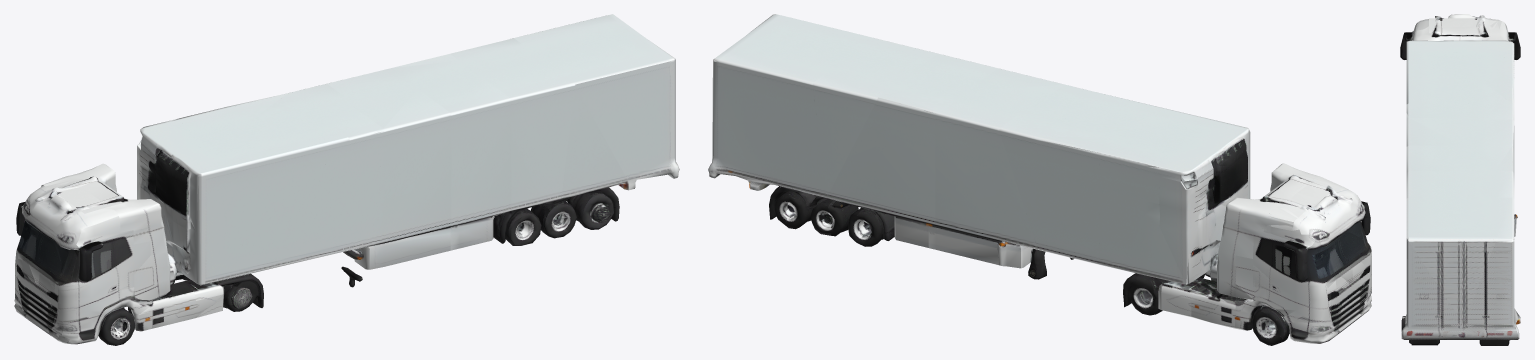
The model's file is truck.glb.
3 renders of one model, left to right at view 1: azimuth 30°, elevation 25°; view 2: azimuth 150°, elevation 25°; view 3: azimuth 270°, elevation 25°, orthographic. The views are drawn at different scales.
Parts seen in each view (by area): view 1: mesh_node; view 2: mesh_node; view 3: mesh_node.
Part boxes in pixels (<box>): mesh_node: <box>14,14,679,345</box>; mesh_node: <box>708,14,1371,345</box>; mesh_node: <box>1400,14,1520,345</box>.
Bounding box in the file's own units: 1.91 × 0.4853 × 0.3796.
Materials: 1 (1 with a texture image).
